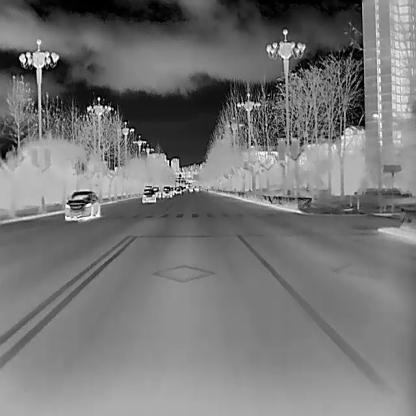car: (64, 190, 100, 218), (142, 188, 155, 202), (162, 186, 172, 198), (152, 186, 161, 198), (174, 186, 181, 194)
